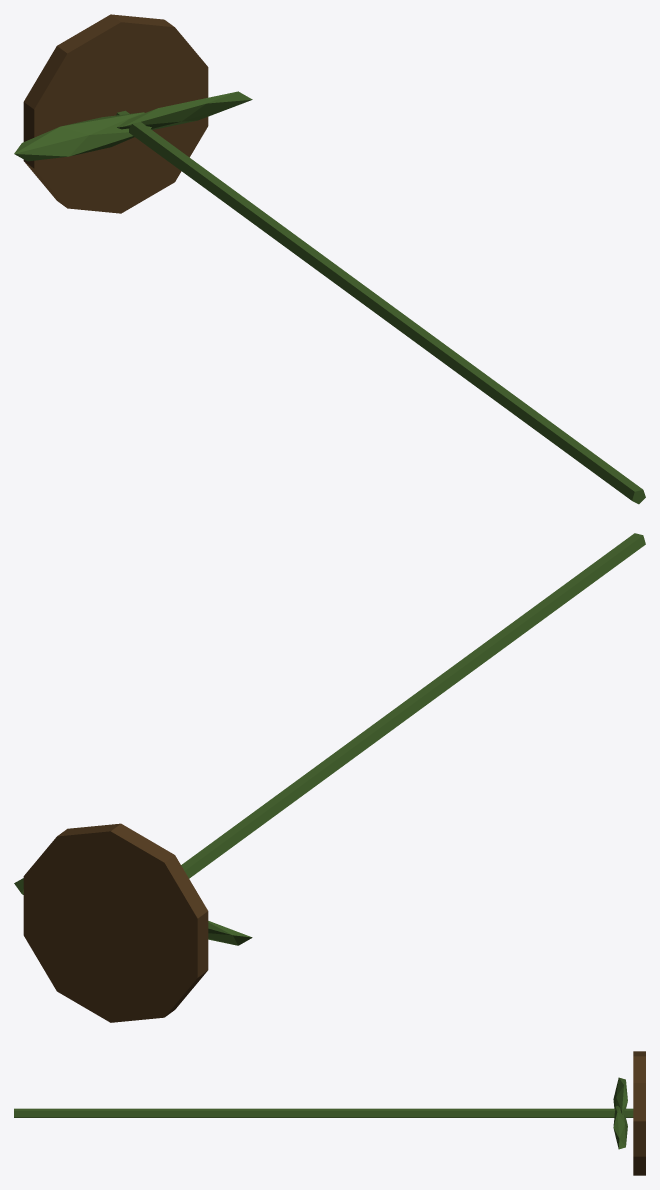
File: 2_growing.obj
3 views of the same model, one above another, from view 1: azimuth 30°, elevation 25°; view 2: azimuth 150°, elevation 25°; view 3: azimuth 270°, elevation 25° (orthographic). The views are drawn at different scales.
Visible parts, largest first — view 1: sunflower_2_growing; view 2: sunflower_2_growing; view 3: sunflower_2_growing.
Part boxes in pixels (left/top/right/bottom): sunflower_2_growing: left=14, top=14, right=645, bottom=504; sunflower_2_growing: left=14, top=533, right=645, bottom=1022; sunflower_2_growing: left=14, top=1051, right=645, bottom=1175.
Size of the model in its own units: 0.2611 by 0.2 by 1.
